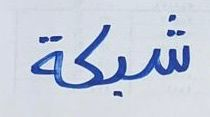kaf: (65, 20, 105, 100)
sheen: (137, 10, 196, 83)
teh_marbota: (23, 32, 64, 91)
yeh: (106, 53, 135, 99)
